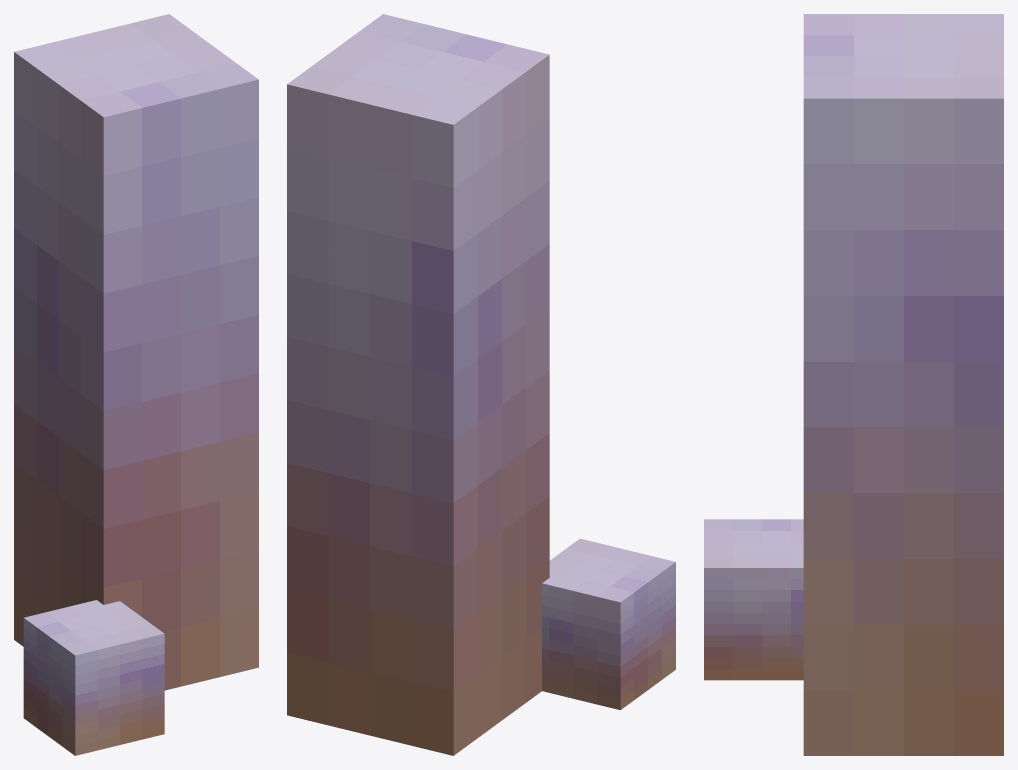
The model's file is sperrylite_crystal_two.obj.
The picture shows the model from 3 angles, left to right: view 1: azimuth 30°, elevation 25°; view 2: azimuth 150°, elevation 25°; view 3: azimuth 270°, elevation 25°; orthographic projection. The views are drawn at different scales.
Parts seen in each view (by area): view 1: Crystal5_Cube.008; view 2: Crystal5_Cube.008; view 3: Crystal5_Cube.008.
Boxes of the visible parts, x1,y1,x2,y2 form: Crystal5_Cube.008: (14,14,258,755); Crystal5_Cube.008: (287,14,675,755); Crystal5_Cube.008: (704,14,1003,755).
Bounding box in the file's own units: 0.1355 × 0.3335 × 0.1379.
